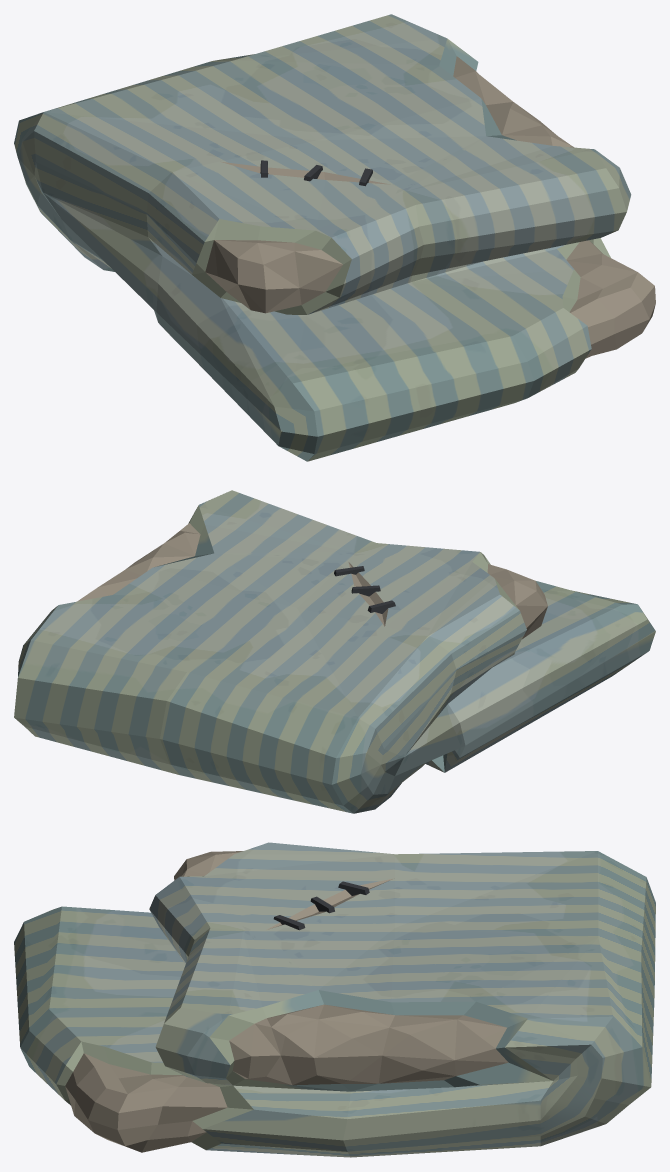
Rendered from SM_Prop_Mattress_03.fbx.
3 renders of one model, top to bottom at view 1: azimuth 30°, elevation 25°; view 2: azimuth 150°, elevation 25°; view 3: azimuth 270°, elevation 25°, orthographic. The views are drawn at different scales.
Parts seen in each view (by area): view 1: SM_Prop_Mattress_03; view 2: SM_Prop_Mattress_03; view 3: SM_Prop_Mattress_03.
Part boxes in pixels (<box>): SM_Prop_Mattress_03: <box>14,14,655,461</box>; SM_Prop_Mattress_03: <box>14,490,655,813</box>; SM_Prop_Mattress_03: <box>14,842,655,1157</box>.
Size of the model in its own units: 124 by 41.99 by 155.
